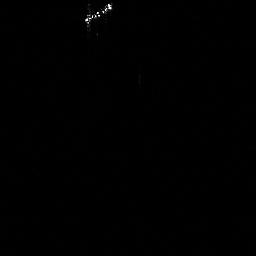ship: (78, 1, 115, 30)
